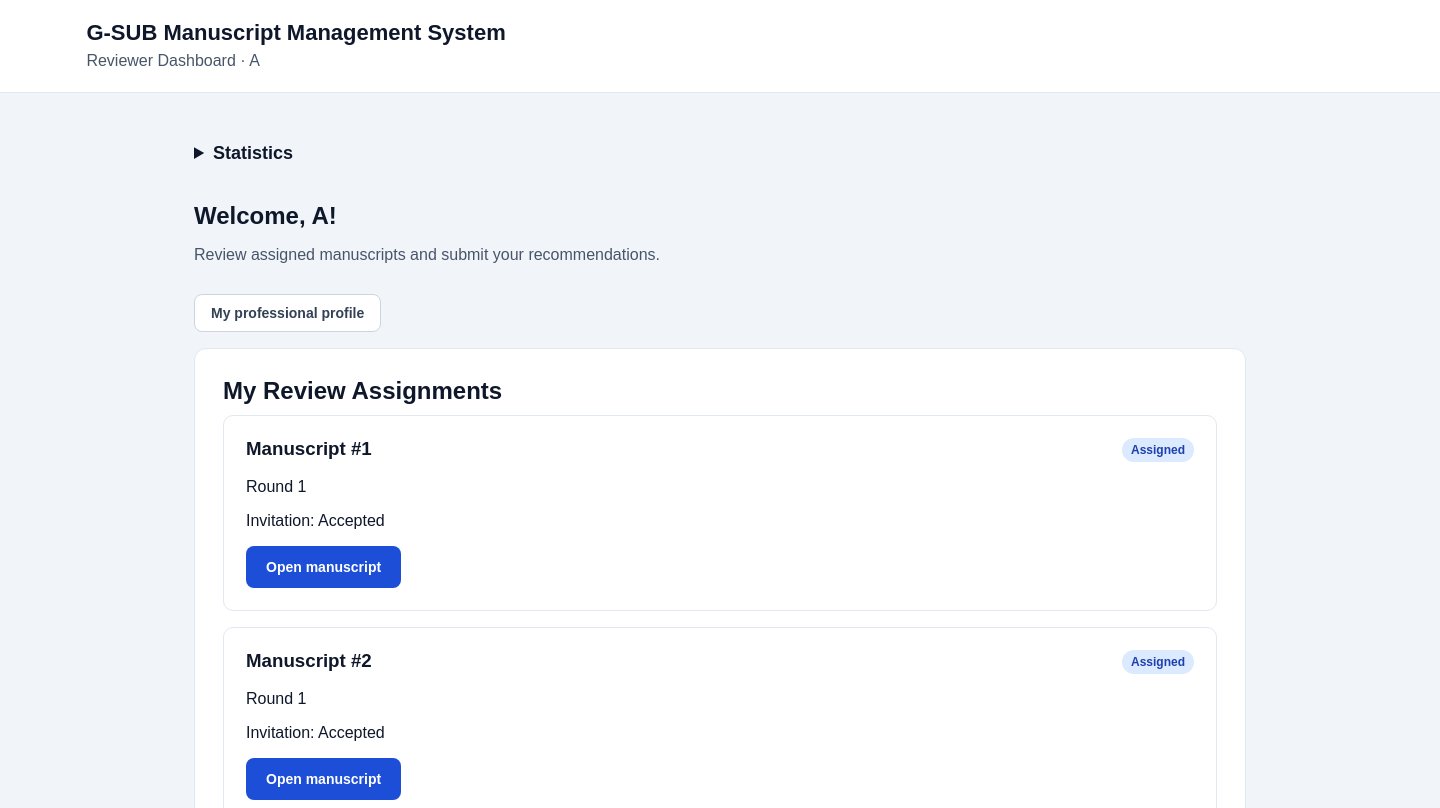
Scenario: does not leak a URL when revoke-not-function occurs before creation completes
Click the button "Open manuscript" below "Manuscript #1": coordinates (324, 567) x1=246 y1=546 x2=401 y2=588
(page scrolled)
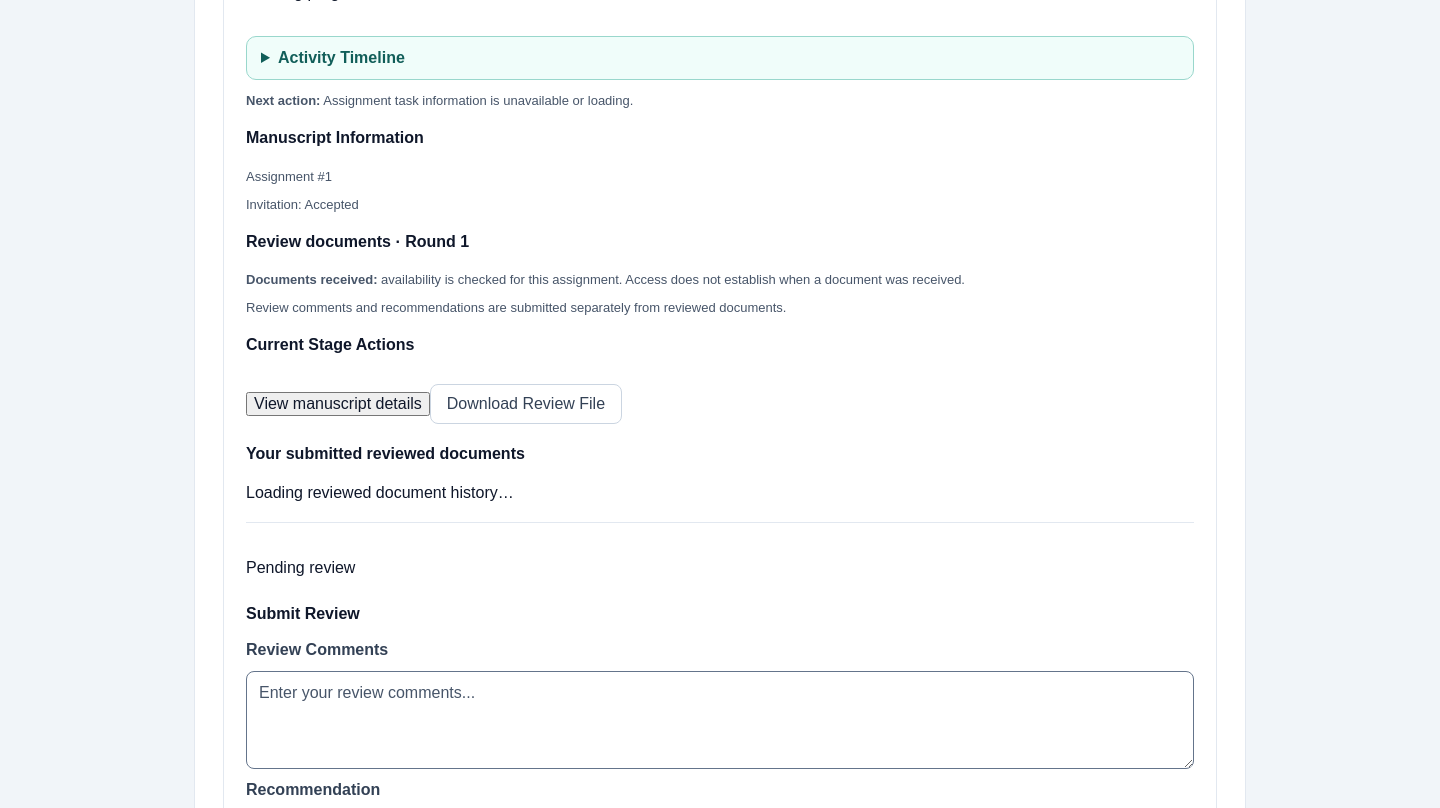
Click the button "Download Review File": coordinates (526, 404) x1=430 y1=384 x2=622 y2=424
(page scrolled)
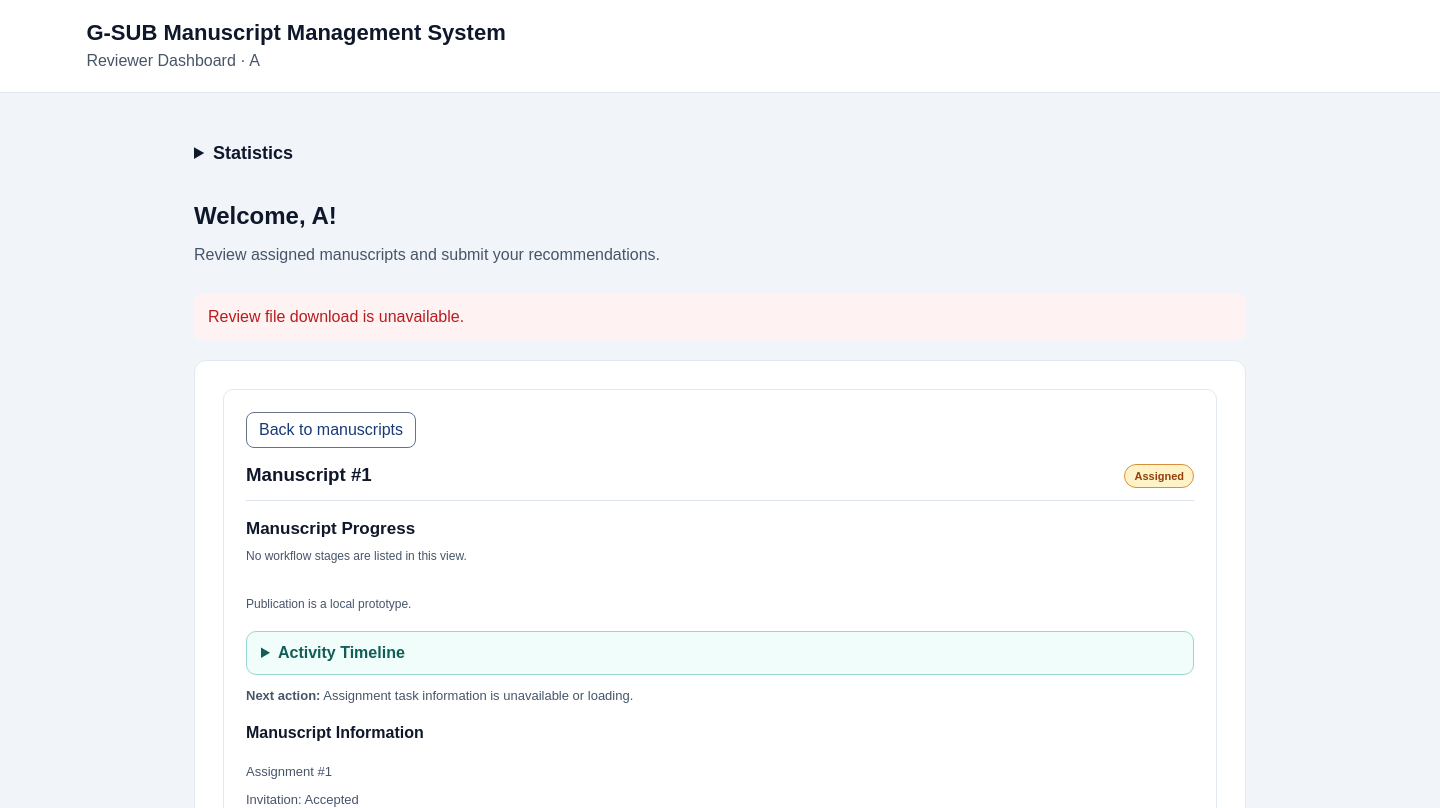
Result: the message "Review file download is unavailable." is shown at x1=194 y1=294 x2=1246 y2=340
